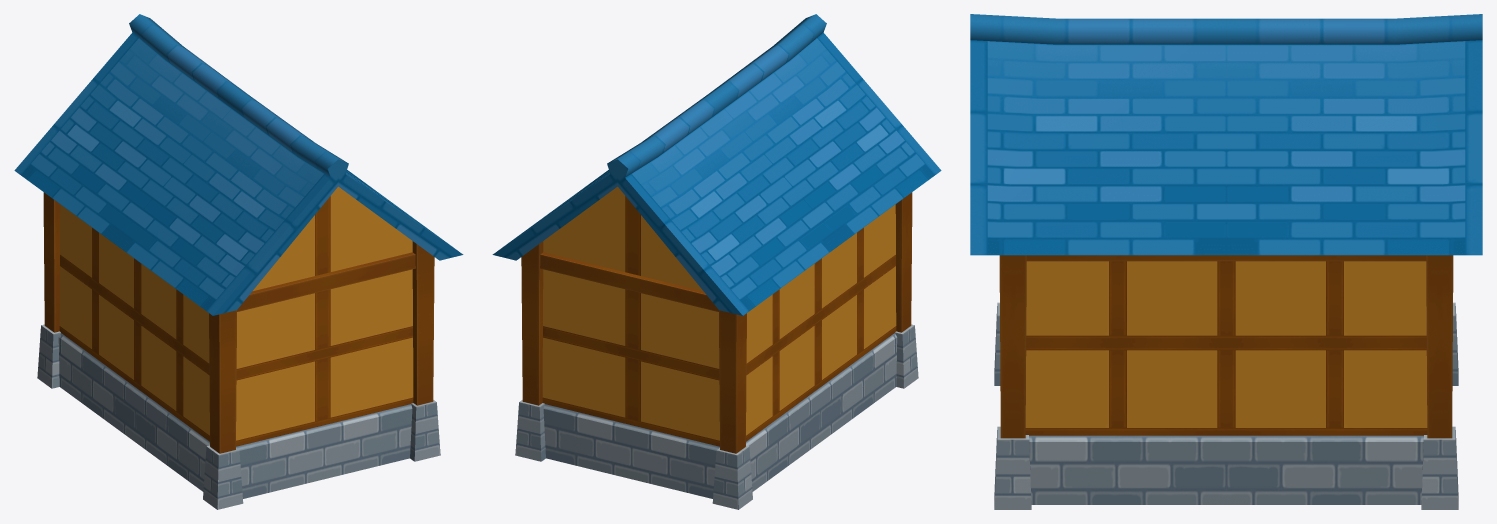
Rendered from HOS0310001.fbx.
3 renders of one model, left to right at view 1: azimuth 30°, elevation 25°; view 2: azimuth 150°, elevation 25°; view 3: azimuth 270°, elevation 25°, orthographic. The views are drawn at different scales.
Visible parts, largest first — view 1: smHOS0310001; view 2: smHOS0310001; view 3: smHOS0310001.
Part boxes in pixels (left/top/right/bottom): smHOS0310001: left=14, top=14, right=463, bottom=509; smHOS0310001: left=492, top=14, right=941, bottom=509; smHOS0310001: left=970, top=14, right=1482, bottom=509.
Size of the model in its own units: 274 by 345 by 376.
Materials: 1 (1 with a texture image).
